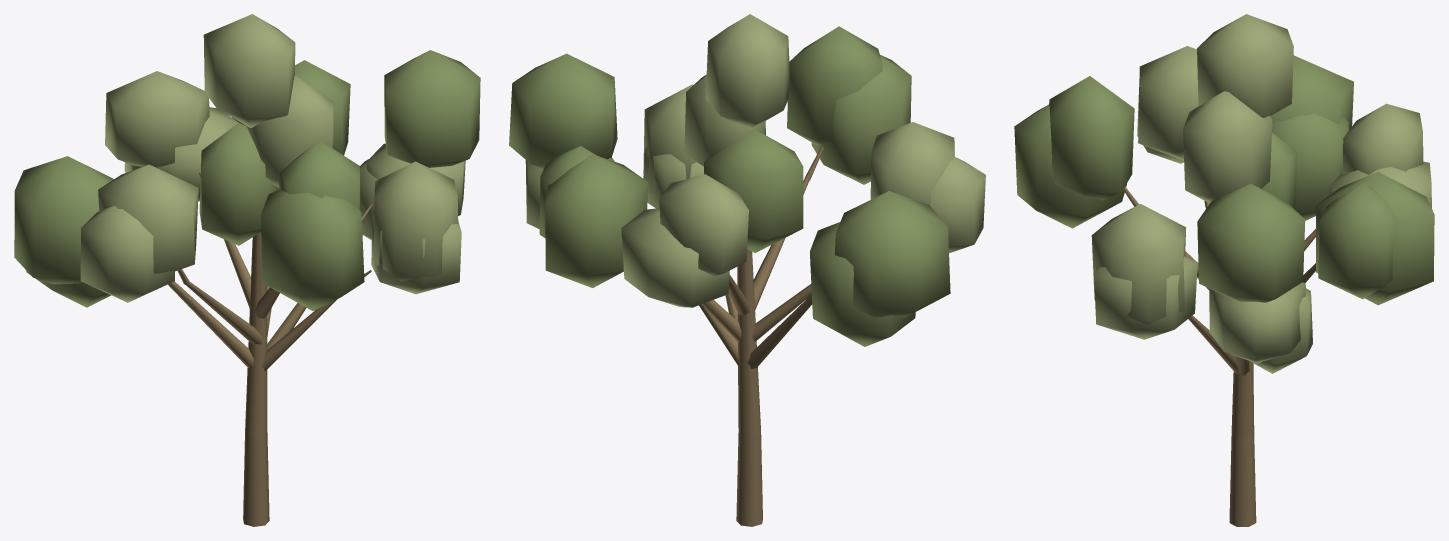
Rendered from tree-a.glb.
The picture shows the model from 3 angles, left to right: view 1: azimuth 30°, elevation 25°; view 2: azimuth 150°, elevation 25°; view 3: azimuth 270°, elevation 25°; orthographic projection.
Visible parts, largest first — view 1: leaf_sage, leaf_olive, bark; view 2: leaf_olive, leaf_sage, bark; view 3: leaf_olive, leaf_sage, bark.
Part boxes in pixels (x1=…): leaf_sage: x1=80, y1=14, x2=465, y2=302; leaf_olive: x1=14, y1=50, x2=480, y2=310; bark: x1=168, y1=172, x2=372, y2=526; leaf_olive: x1=509, y1=26, x2=950, y2=346; leaf_sage: x1=525, y1=14, x2=985, y2=307; bark: x1=699, y1=145, x2=823, y2=526; leaf_olive: x1=1014, y1=55, x2=1434, y2=305; leaf_sage: x1=1091, y1=14, x2=1431, y2=373; bark: x1=1123, y1=186, x2=1315, y2=526.
Bounding box in the file's own units: 4.93 × 5.49 × 4.13.
